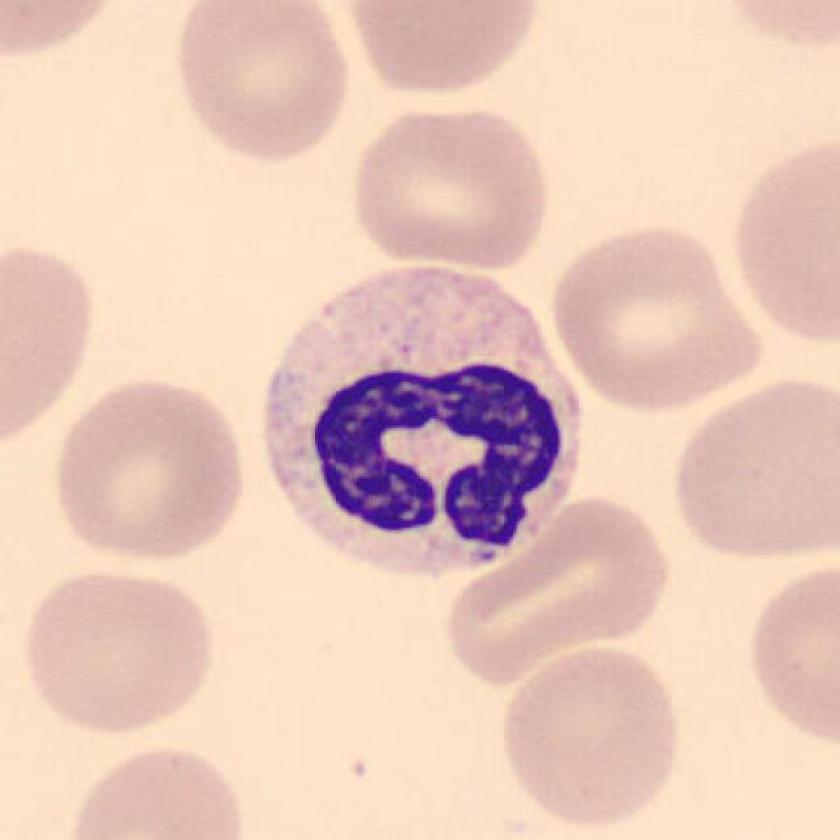neutrophil: (267, 270, 584, 573)
